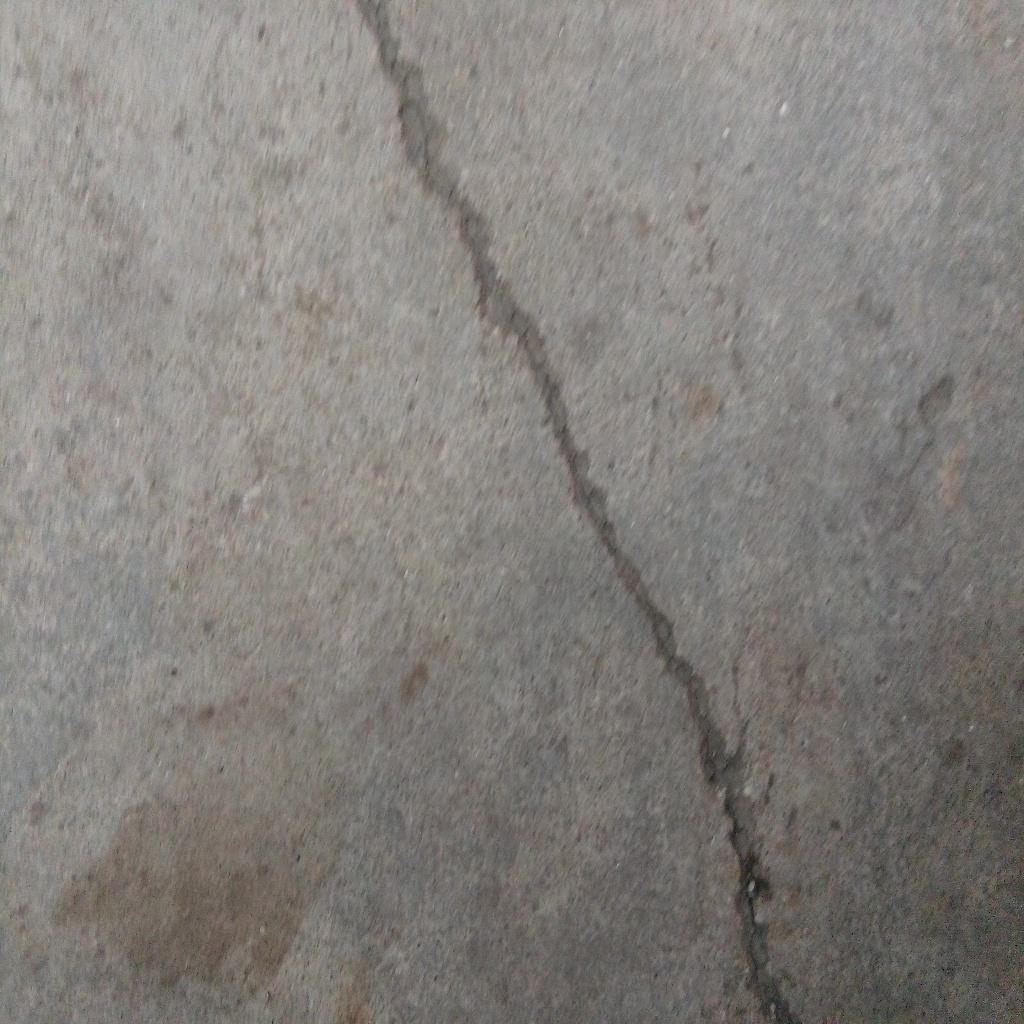Crack: (353, 1, 801, 1024)
